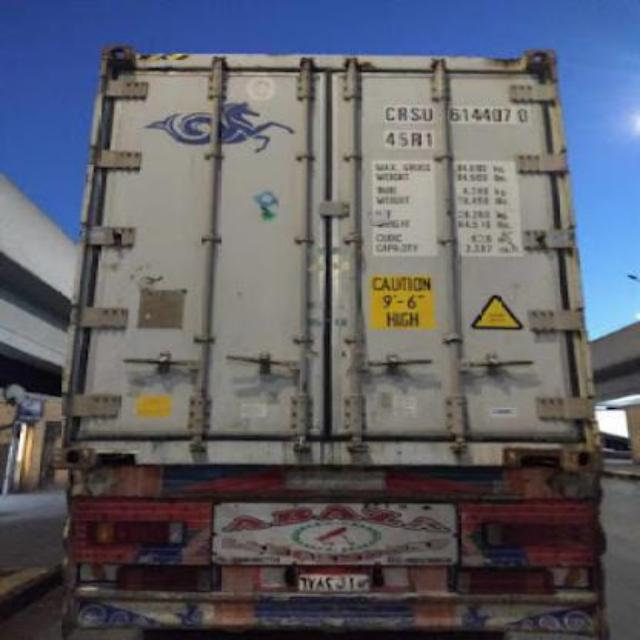0: (490, 108, 502, 122), (516, 108, 528, 122)
1: (462, 108, 470, 122)
4: (480, 107, 492, 123), (470, 106, 480, 124)
6: (448, 108, 460, 120)
7: (500, 108, 512, 120)
C: (384, 106, 396, 120)
R: (396, 105, 409, 121)
S: (408, 105, 422, 125)
U: (422, 107, 434, 123)
